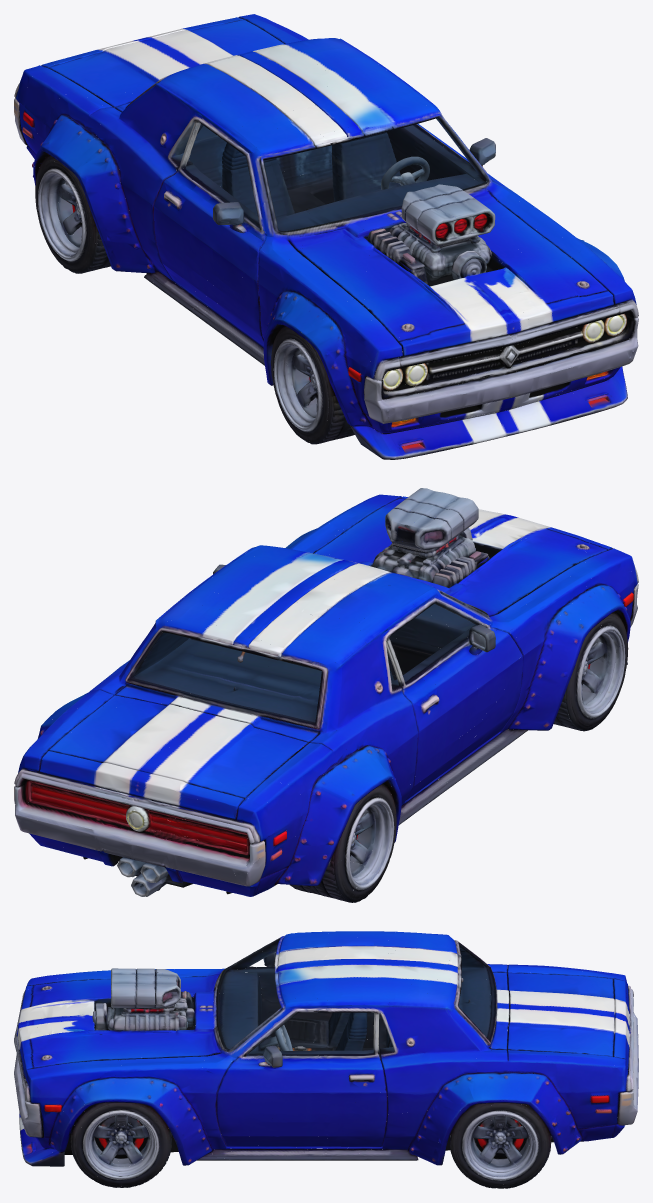
File: bruiser.glb
3 renders of one model, top to bottom at view 1: azimuth 30°, elevation 25°; view 2: azimuth 150°, elevation 25°; view 3: azimuth 270°, elevation 25°, orthographic. The views are drawn at different scales.
Visible parts, largest first — view 1: tripo_node_0a302899-1934-4832-b95b-eb9d93209461; view 2: tripo_node_0a302899-1934-4832-b95b-eb9d93209461; view 3: tripo_node_0a302899-1934-4832-b95b-eb9d93209461.
Boxes of the visible parts, x1,y1,x2,y2 form: tripo_node_0a302899-1934-4832-b95b-eb9d93209461: (14,14,638,459); tripo_node_0a302899-1934-4832-b95b-eb9d93209461: (14,488,638,902); tripo_node_0a302899-1934-4832-b95b-eb9d93209461: (14,931,638,1188).
Size of the model in its own units: 0.4637 by 0.2932 by 0.9801.
Materials: 1 (1 with a texture image).
